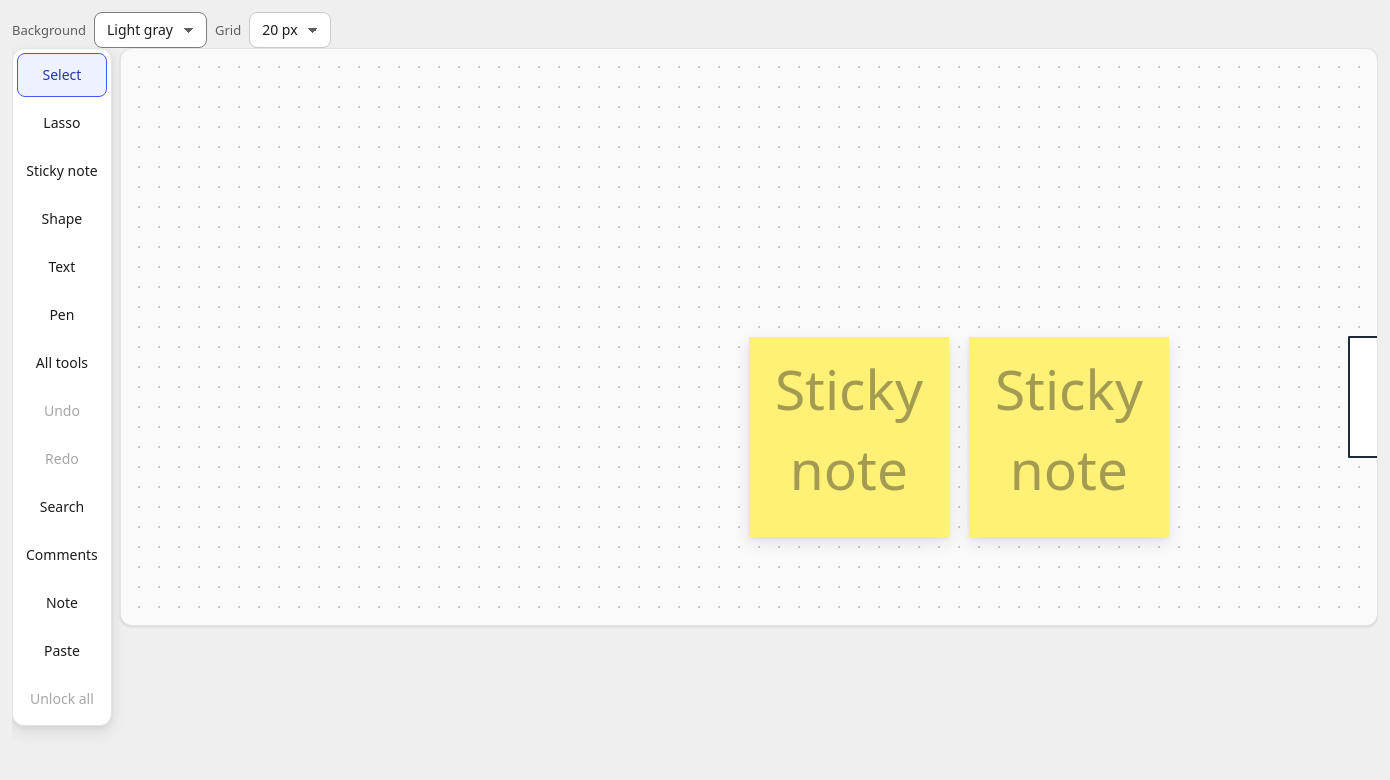
Test case: CVS-17, CVS-18: группы и порядок слоёв › Ungroup возвращает объекты на место и выделяет их
Press the mouse on the 1st element showing "Sticky note" at (849, 437), box [749,337,949,537]
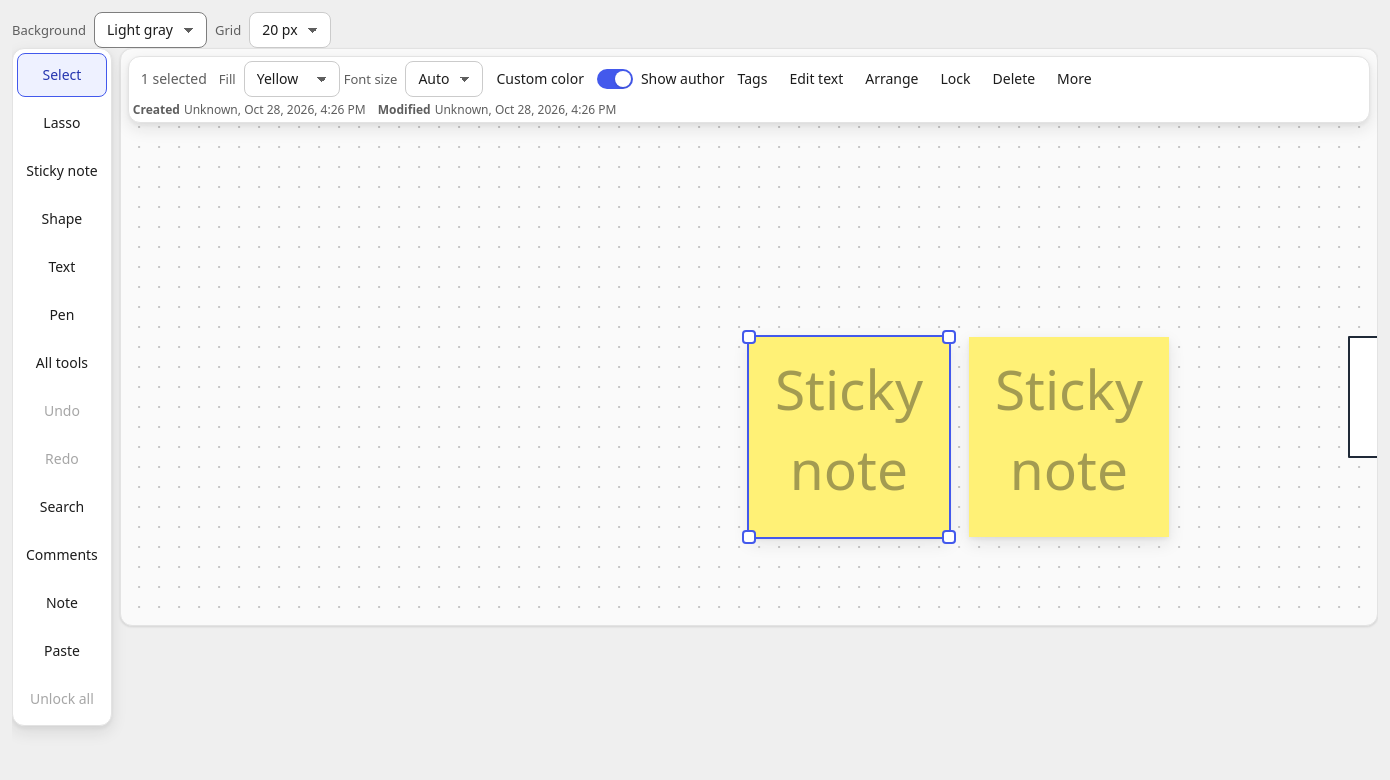
Press the mouse on the 2nd element showing "Sticky note" at (1069, 437), box [969,337,1169,537]
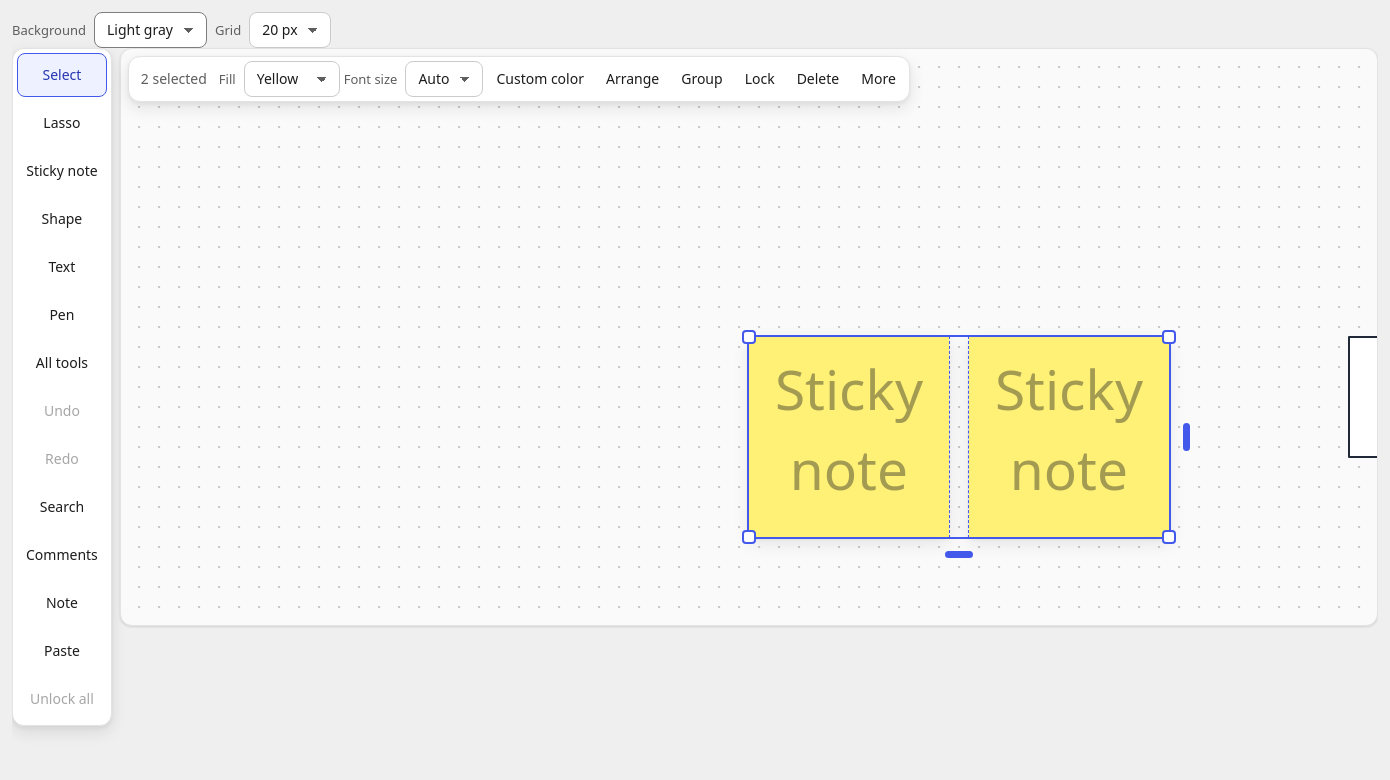
Click the button "Group" at (702, 79), box [672,61,732,97]
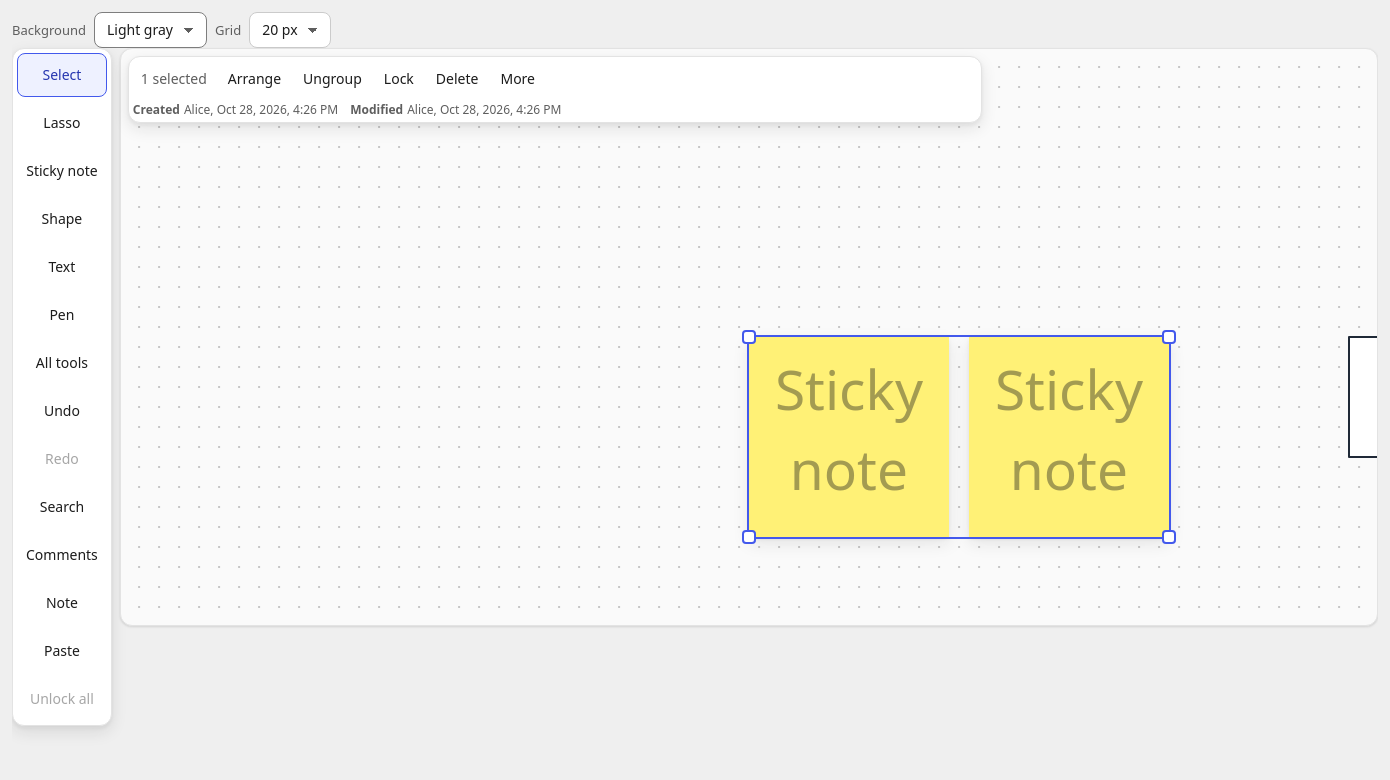
Click the button "Ungroup" at (332, 79), box [294,61,371,97]
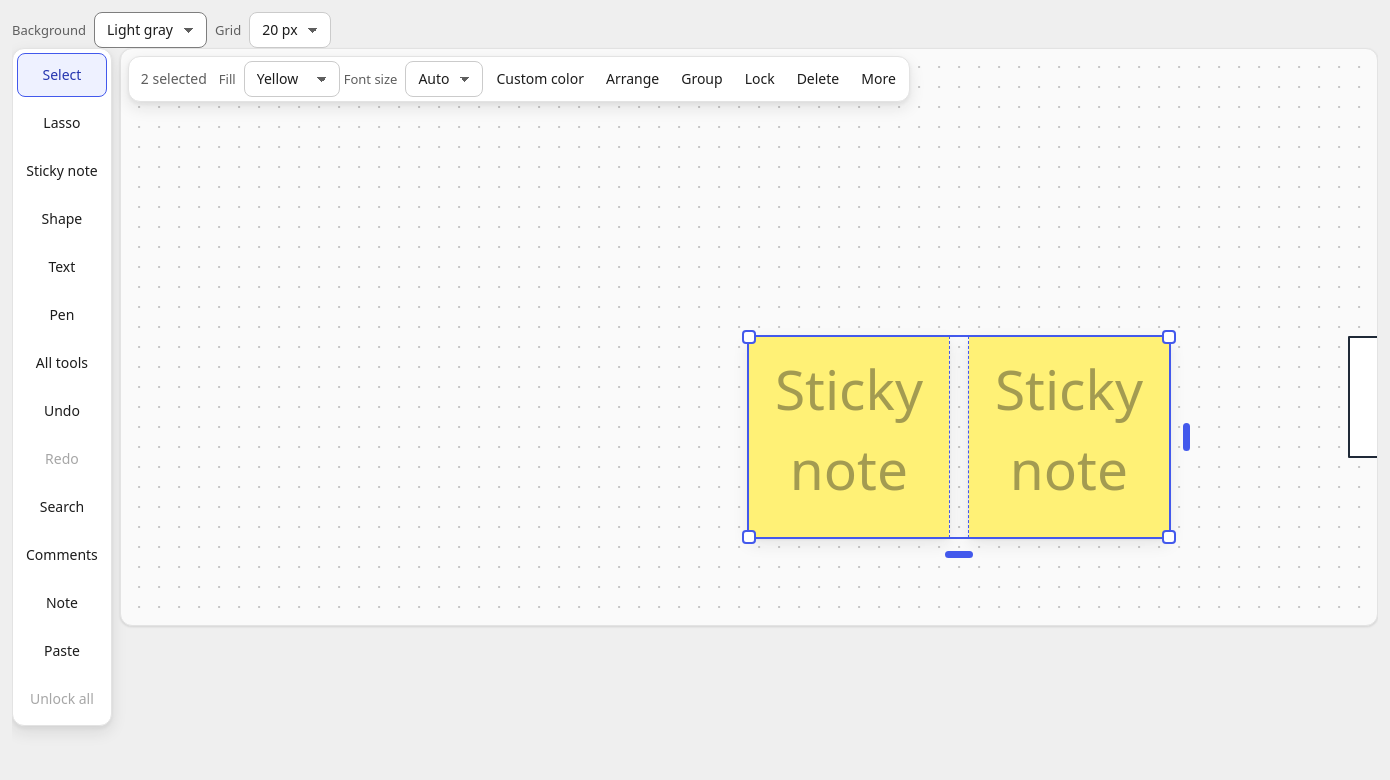
Now the element named "Selection" shows "2 selected", box [128,56,910,102]
